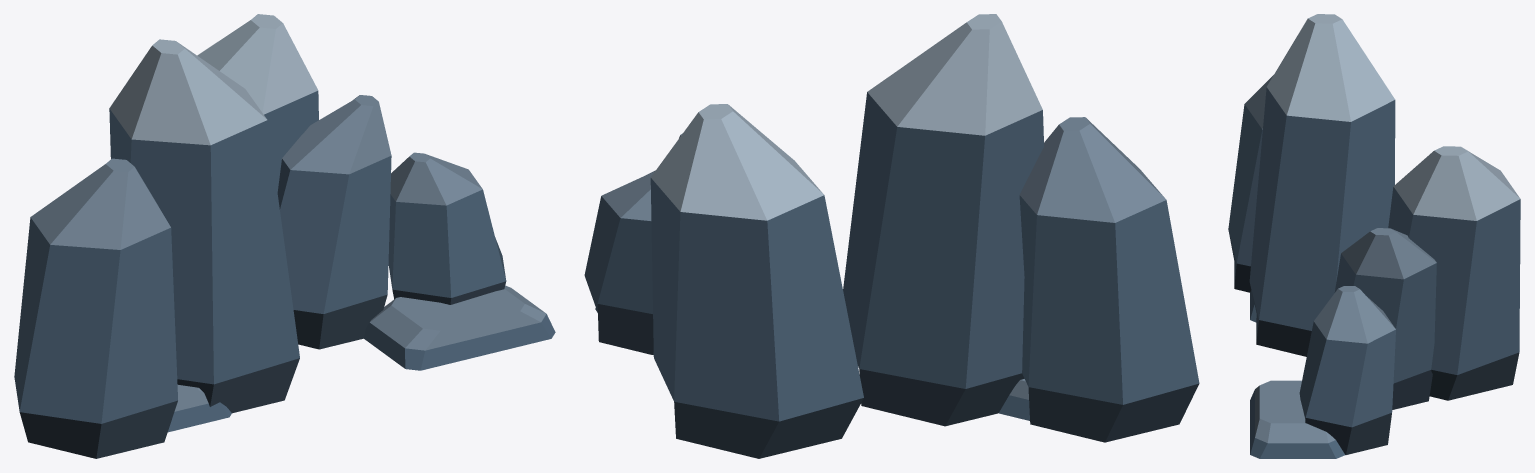
The model's file is frost-spires.glb.
3 views of the same model, side by side, from view 1: azimuth 30°, elevation 25°; view 2: azimuth 150°, elevation 25°; view 3: azimuth 270°, elevation 25° (orthographic). The views are drawn at different scales.
Parts seen in each view (by area): view 1: frost-spires; view 2: frost-spires; view 3: frost-spires.
Part boxes in pixels (x1,y1,x2,y2): frost-spires: [14, 14, 555, 458]; frost-spires: [584, 14, 1199, 458]; frost-spires: [1228, 14, 1520, 458].
Bounding box in the file's own units: 9.73 × 6.1 × 5.5.
